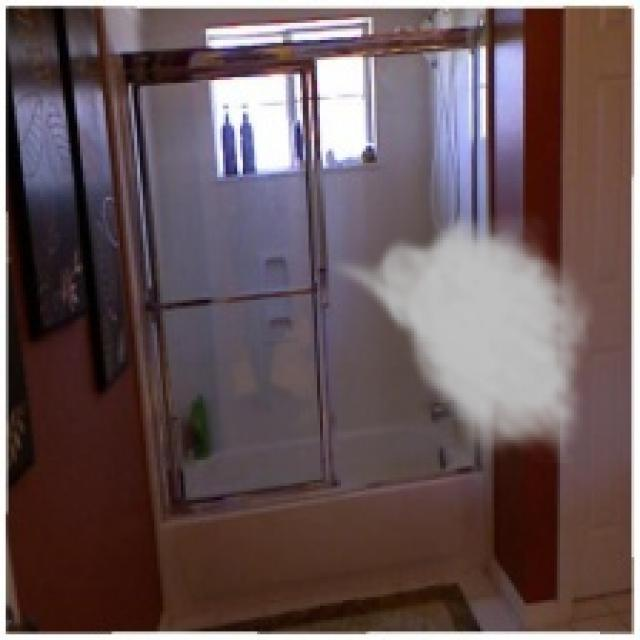smoke: (326, 208, 594, 466)
